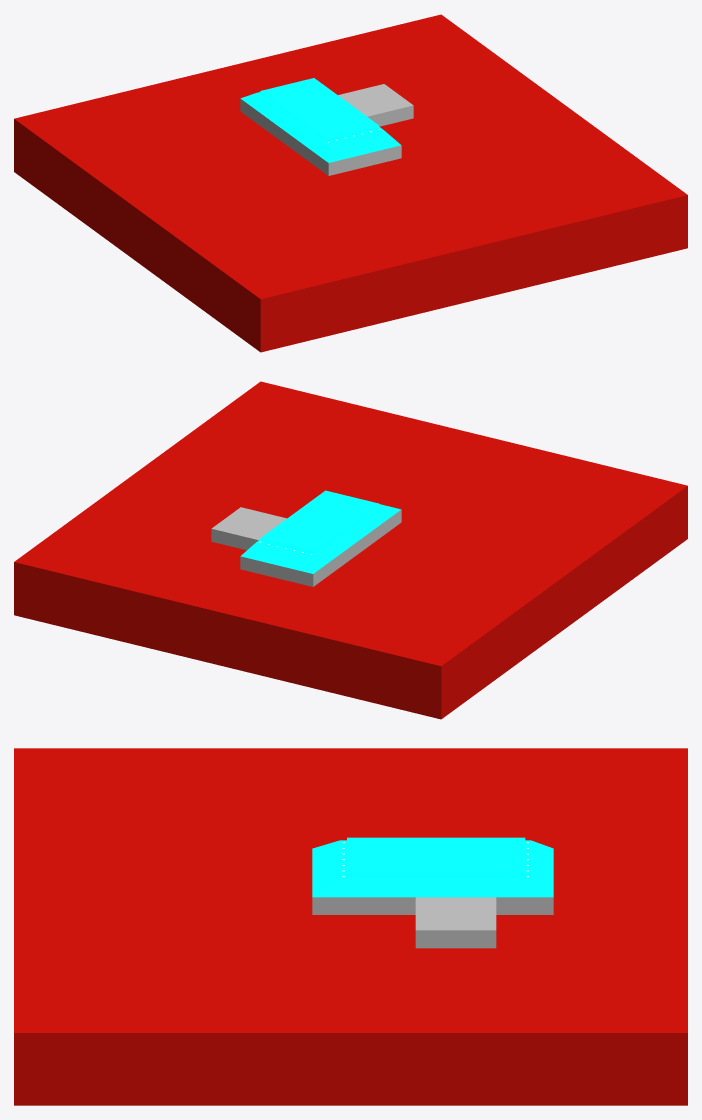
File: room.glb
3 views of the same model, one above another, from view 1: azimuth 30°, elevation 25°; view 2: azimuth 150°, elevation 25°; view 3: azimuth 270°, elevation 25° (orthographic). The views are drawn at different scales.
Parts seen in each view (by area): view 1: floor, room-outline; view 2: floor, room-outline; view 3: floor, room-outline.
Boxes of the visible parts, x1,y1,x2,y2 form: floor: (14, 14, 687, 352); room-outline: (240, 78, 413, 175); floor: (14, 381, 687, 719); room-outline: (211, 490, 401, 586); floor: (14, 748, 687, 1105); room-outline: (312, 837, 553, 948).
Size of what is drawn, in the model's own units: 118 by 20.81 by 118.
